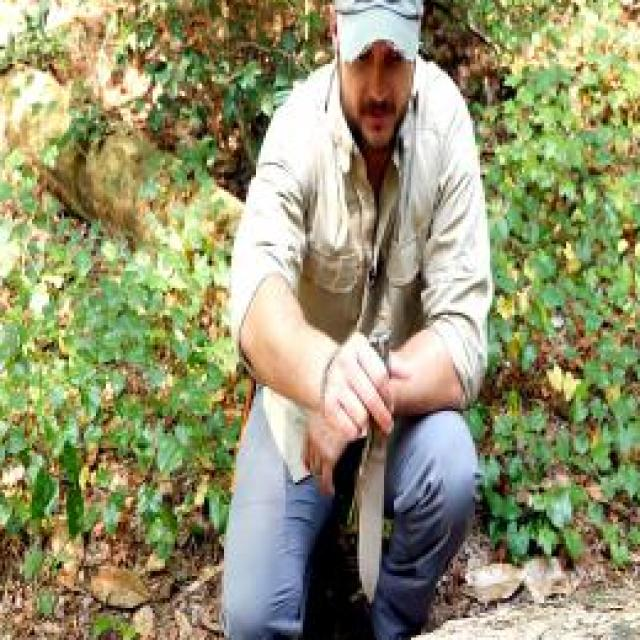knife: (340, 335, 394, 613)
